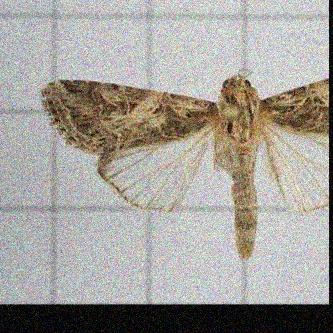Spodoptera litura: (37, 67, 329, 259)
